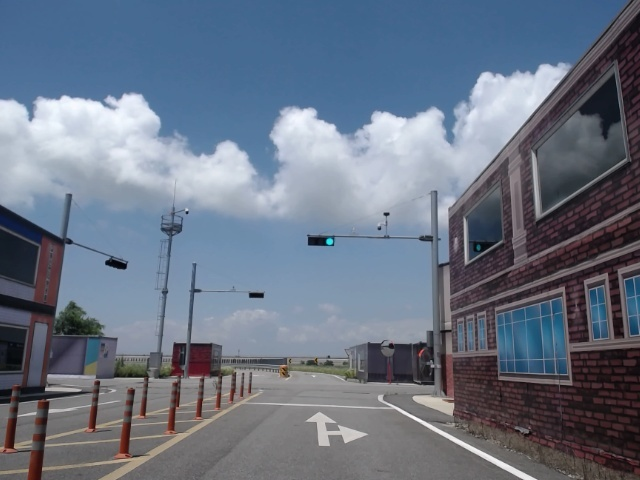green_3: (308, 237, 334, 245)
